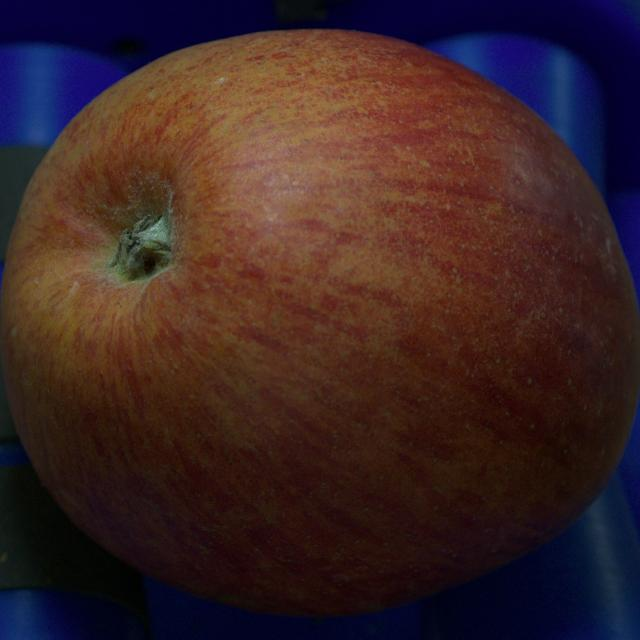apple: (0, 30, 639, 616)
